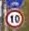limite 10: (4, 8, 25, 29)
